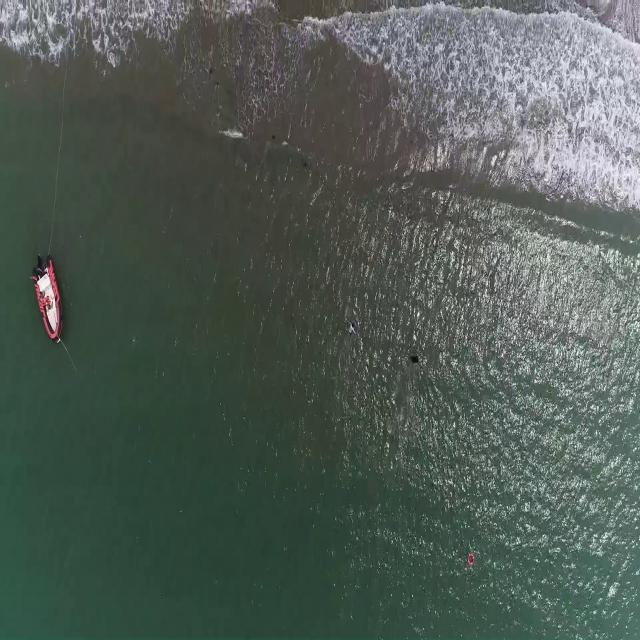boat: (32, 255, 62, 343)
life_buoy: (467, 551, 476, 566)
person: (348, 314, 361, 335), (410, 348, 420, 367)
